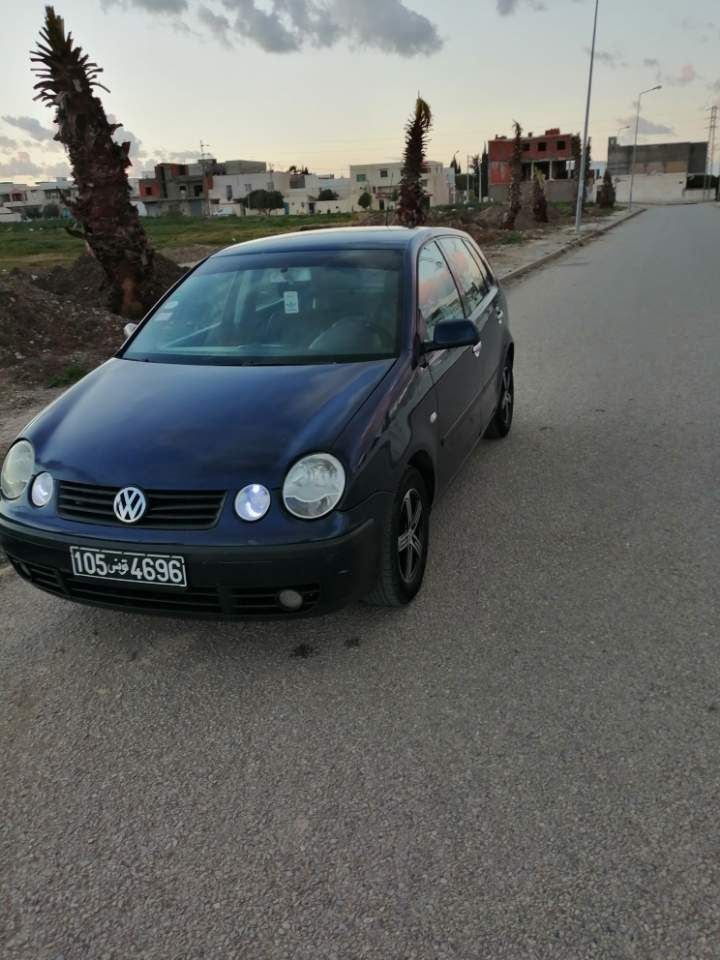LP: (68, 543, 187, 586)
